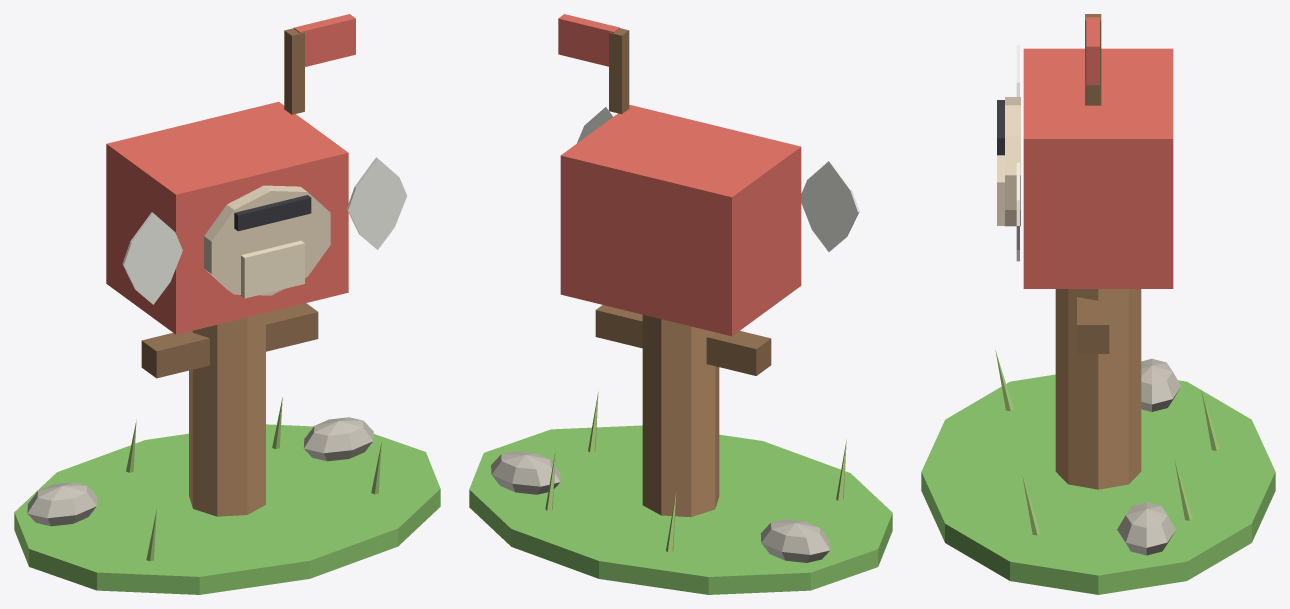
3 renders of one model, left to right at view 1: azimuth 30°, elevation 25°; view 2: azimuth 150°, elevation 25°; view 3: azimuth 270°, elevation 25°, orthographic. The views are drawn at different scales.
Visible parts, largest first — view 1: round grass base, red courier mailbox, wooden post, cream arch door, cross supports, white wing r, white wing l, letter flap, small rock.001, small rock, flag cloth, little red flag (+1 smaller); view 2: red courier mailbox, round grass base, wooden post, cross supports, white wing l, small rock.001, small rock, flag cloth, little red flag; view 3: round grass base, red courier mailbox, wooden post, small rock, cream arch door, cross supports, small rock.001, flag cloth, little red flag, letter flap.
Boxes of the visible parts, x1=… form: round grass base: x1=14, y1=424, x2=440, y2=594; red courier mailbox: x1=106, y1=101, x2=348, y2=334; wooden post: x1=189, y1=313, x2=265, y2=516; cream arch door: x1=204, y1=185, x2=330, y2=295; cross supports: x1=141, y1=303, x2=318, y2=378; white wing r: x1=347, y1=157, x2=407, y2=249; white wing l: x1=122, y1=212, x2=182, y2=304; letter flap: x1=240, y1=240, x2=304, y2=298; small rock.001: x1=27, y1=482, x2=97, y2=526; small rock: x1=303, y1=417, x2=373, y2=461; flag cloth: x1=293, y1=14, x2=355, y2=66; little red flag: x1=284, y1=28, x2=304, y2=114; red courier mailbox: x1=560, y1=105, x2=801, y2=336; round grass base: x1=469, y1=425, x2=892, y2=594; wooden post: x1=642, y1=314, x2=719, y2=516; cross supports: x1=595, y1=305, x2=771, y2=375; white wing l: x1=801, y1=160, x2=859, y2=251; small rock.001: x1=760, y1=519, x2=830, y2=562; small rock: x1=491, y1=451, x2=560, y2=494; flag cloth: x1=558, y1=14, x2=619, y2=66; little red flag: x1=609, y1=28, x2=629, y2=114; round grass base: x1=921, y1=374, x2=1275, y2=594; red courier mailbox: x1=1023, y1=48, x2=1173, y2=288; wooden post: x1=1055, y1=289, x2=1141, y2=489; small rock: x1=1117, y1=502, x2=1175, y2=555; cream arch door: x1=1005, y1=97, x2=1020, y2=226; cross supports: x1=1077, y1=297, x2=1109, y2=353; small rock.001: x1=1141, y1=358, x2=1181, y2=411; flag cloth: x1=1086, y1=17, x2=1099, y2=85; little red flag: x1=1085, y1=14, x2=1101, y2=105; letter flap: x1=997, y1=155, x2=1004, y2=225.
Bounding box in the file's own units: 1.84 × 2.11 × 1.32.
